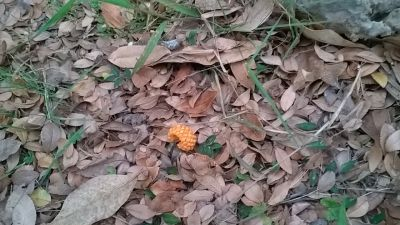eggs: (166, 124, 199, 150)
